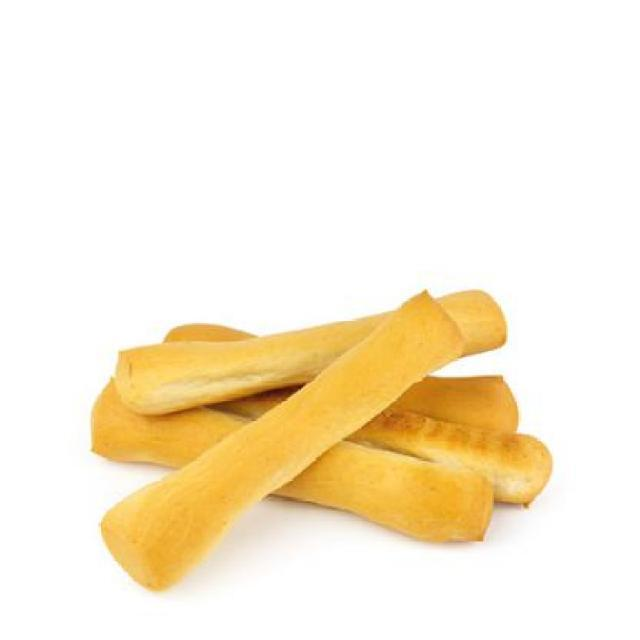Grissini: (89, 288, 560, 584)
